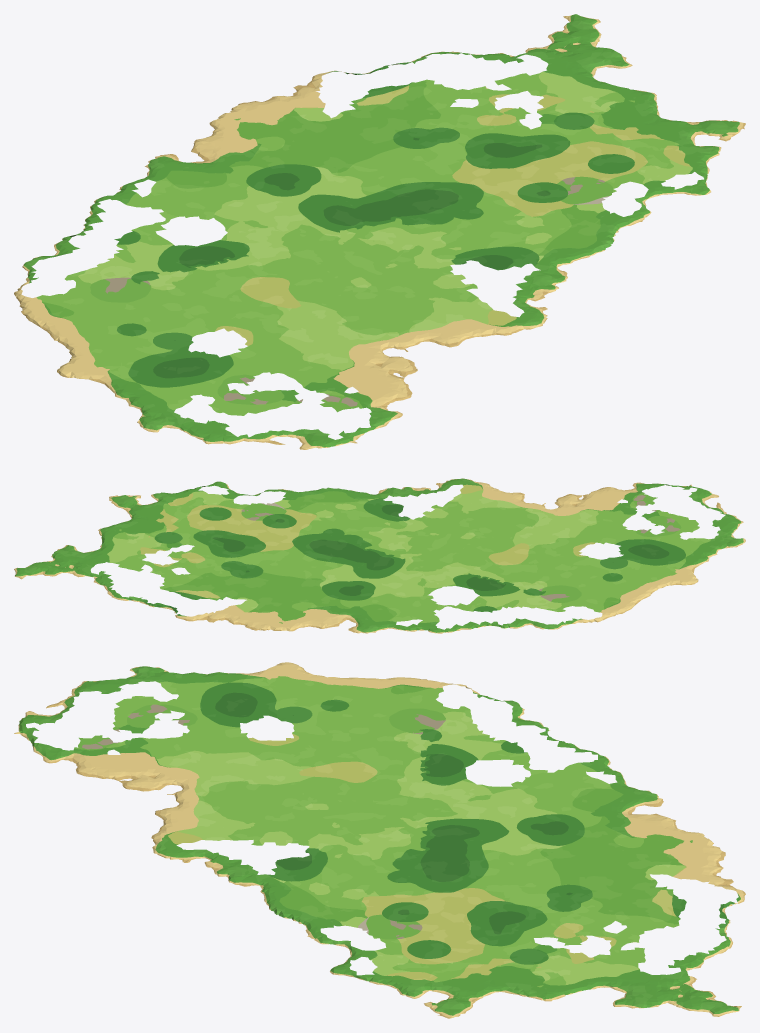
Rendered from Isl-bot2-Ground.fbx.
3 views of the same model, one above another, from view 1: azimuth 30°, elevation 25°; view 2: azimuth 150°, elevation 25°; view 3: azimuth 270°, elevation 25° (orthographic). The views are drawn at different scales.
Visible parts, largest first — view 1: Isl-bot2-Ground-c11, Isl-bot2-Ground-c22, Isl-bot2-Ground-c21, Isl-bot2-Ground-c12, Isl-bot2-Ground-c01, Isl-bot2-Ground-c32, Isl-bot2-Ground-c10, Isl-bot2-Ground-c31, Isl-bot2-Ground-c00; view 2: Isl-bot2-Ground-c11, Isl-bot2-Ground-c22, Isl-bot2-Ground-c12, Isl-bot2-Ground-c21, Isl-bot2-Ground-c01, Isl-bot2-Ground-c32, Isl-bot2-Ground-c10, Isl-bot2-Ground-c31, Isl-bot2-Ground-c00, Isl-bot2-Ground-c02; view 3: Isl-bot2-Ground-c11, Isl-bot2-Ground-c22, Isl-bot2-Ground-c21, Isl-bot2-Ground-c12, Isl-bot2-Ground-c01, Isl-bot2-Ground-c32, Isl-bot2-Ground-c10, Isl-bot2-Ground-c31, Isl-bot2-Ground-c00.
Part boxes in pixels (x1,y1,x2,y2): Isl-bot2-Ground-c11: (75, 218, 520, 415); Isl-bot2-Ground-c22: (226, 48, 666, 217); Isl-bot2-Ground-c21: (370, 146, 711, 330); Isl-bot2-Ground-c12: (32, 113, 369, 290); Isl-bot2-Ground-c01: (19, 290, 243, 433); Isl-bot2-Ground-c32: (529, 14, 745, 145); Isl-bot2-Ground-c10: (267, 379, 412, 449); Isl-bot2-Ground-c31: (666, 129, 739, 178); Isl-bot2-Ground-c00: (187, 422, 279, 444); Isl-bot2-Ground-c11: (375, 482, 694, 605); Isl-bot2-Ground-c22: (78, 506, 374, 630); Isl-bot2-Ground-c12: (274, 556, 576, 633); Isl-bot2-Ground-c21: (173, 478, 475, 555); Isl-bot2-Ground-c01: (577, 520, 745, 615); Isl-bot2-Ground-c32: (14, 495, 170, 579); Isl-bot2-Ground-c10: (589, 482, 719, 510); Isl-bot2-Ground-c31: (125, 487, 197, 505); Isl-bot2-Ground-c00: (711, 503, 743, 530); Isl-bot2-Ground-c02: (548, 605, 614, 629); Isl-bot2-Ground-c11: (113, 703, 438, 842); Isl-bot2-Ground-c22: (435, 839, 745, 979); Isl-bot2-Ground-c21: (152, 839, 438, 979); Isl-bot2-Ground-c12: (435, 703, 711, 841); Isl-bot2-Ground-c01: (113, 662, 438, 704); Isl-bot2-Ground-c32: (436, 976, 741, 1018); Isl-bot2-Ground-c10: (14, 704, 115, 779); Isl-bot2-Ground-c31: (360, 976, 438, 1012); Isl-bot2-Ground-c00: (48, 679, 115, 706).
Size of the model in its own units: 146 by 0.4899 by 127.
